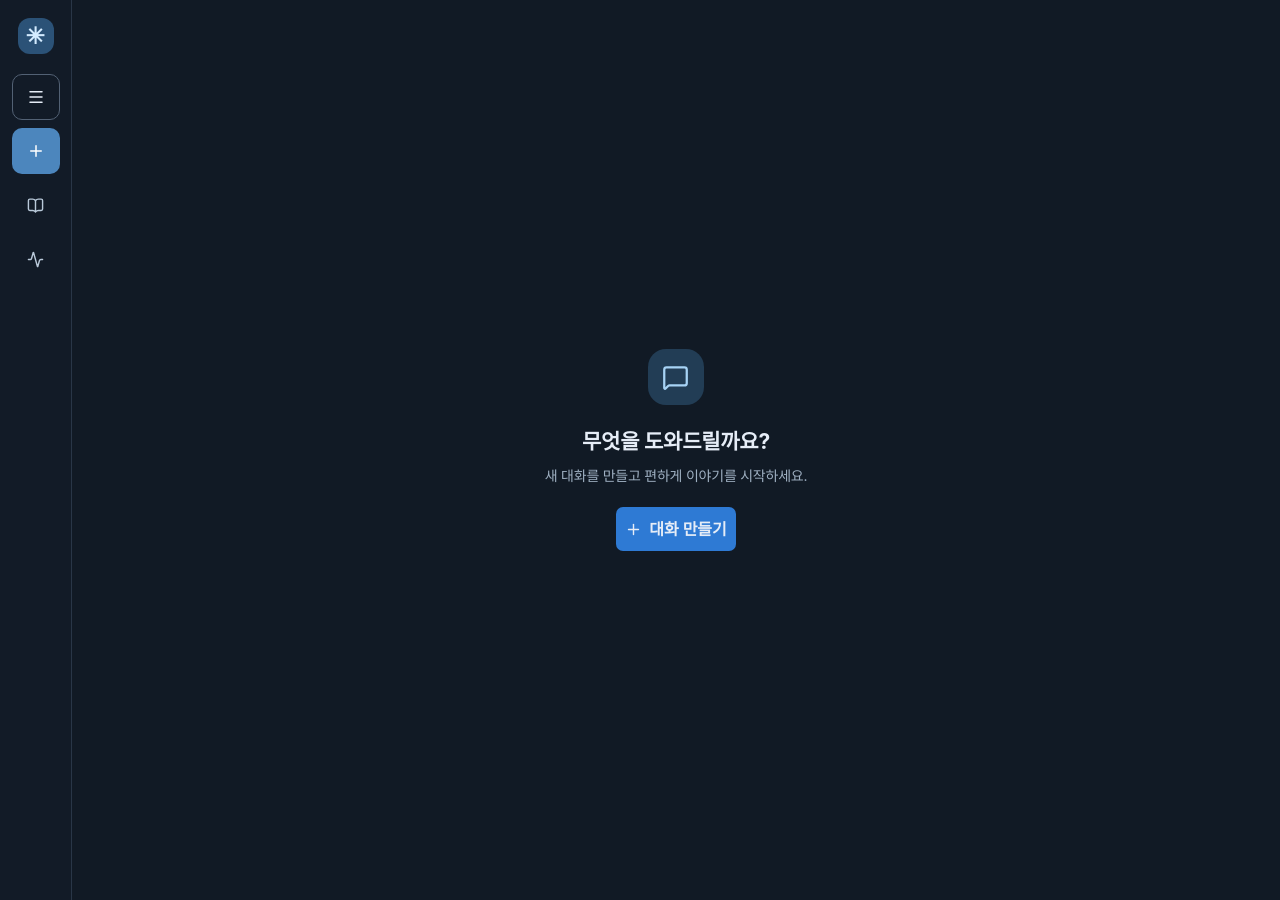
Test case: opens and closes the dialog, then creates and opens a conversation
What coordinates should you click on to do the following:
click the button named "새 대화"
I would click on:
 (36, 151)
Its box is [12,128,60,174].
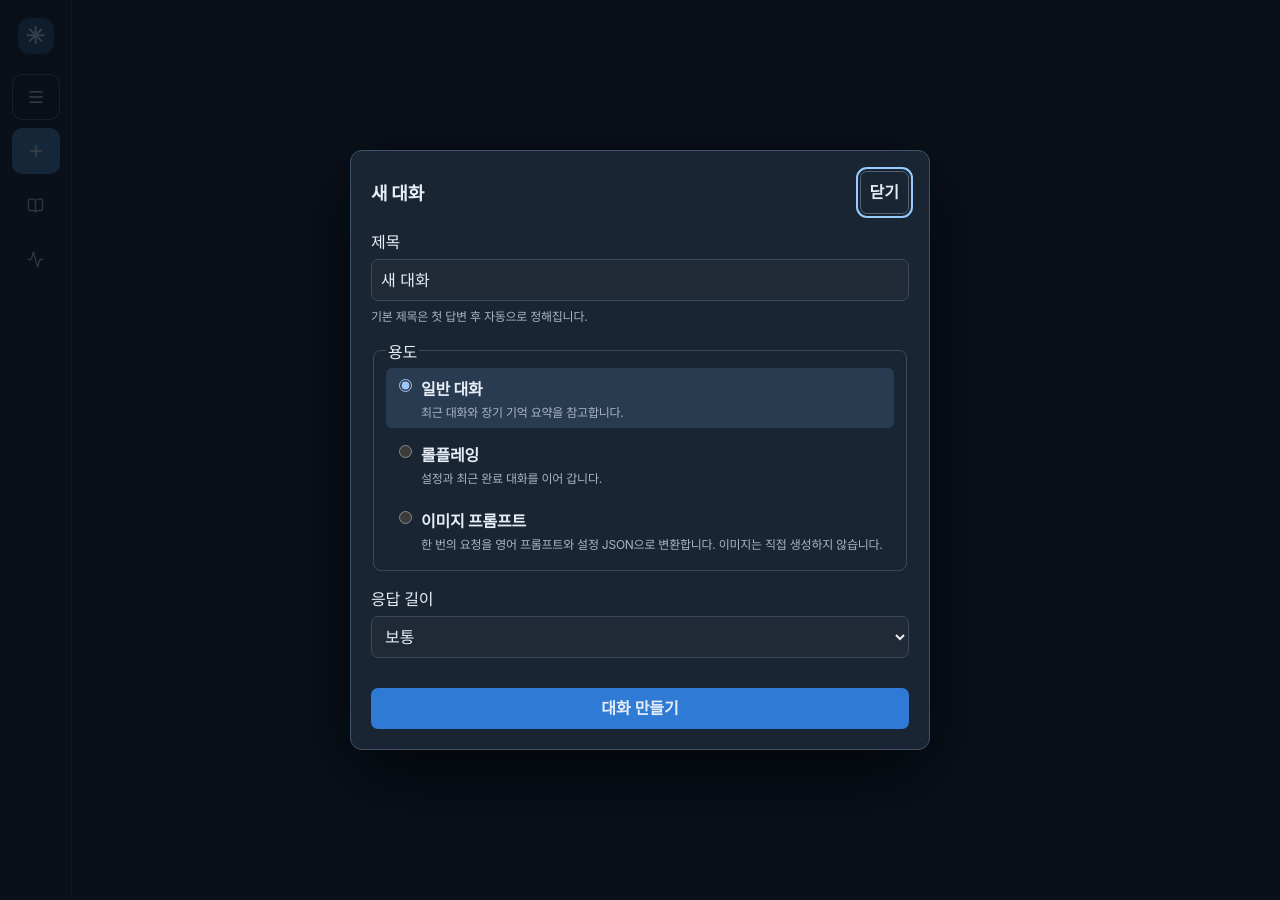
What coordinates should you click on to do the following:
click the button "닫기"
I would click on:
 (884, 192)
Its box is [860,171,909,214].
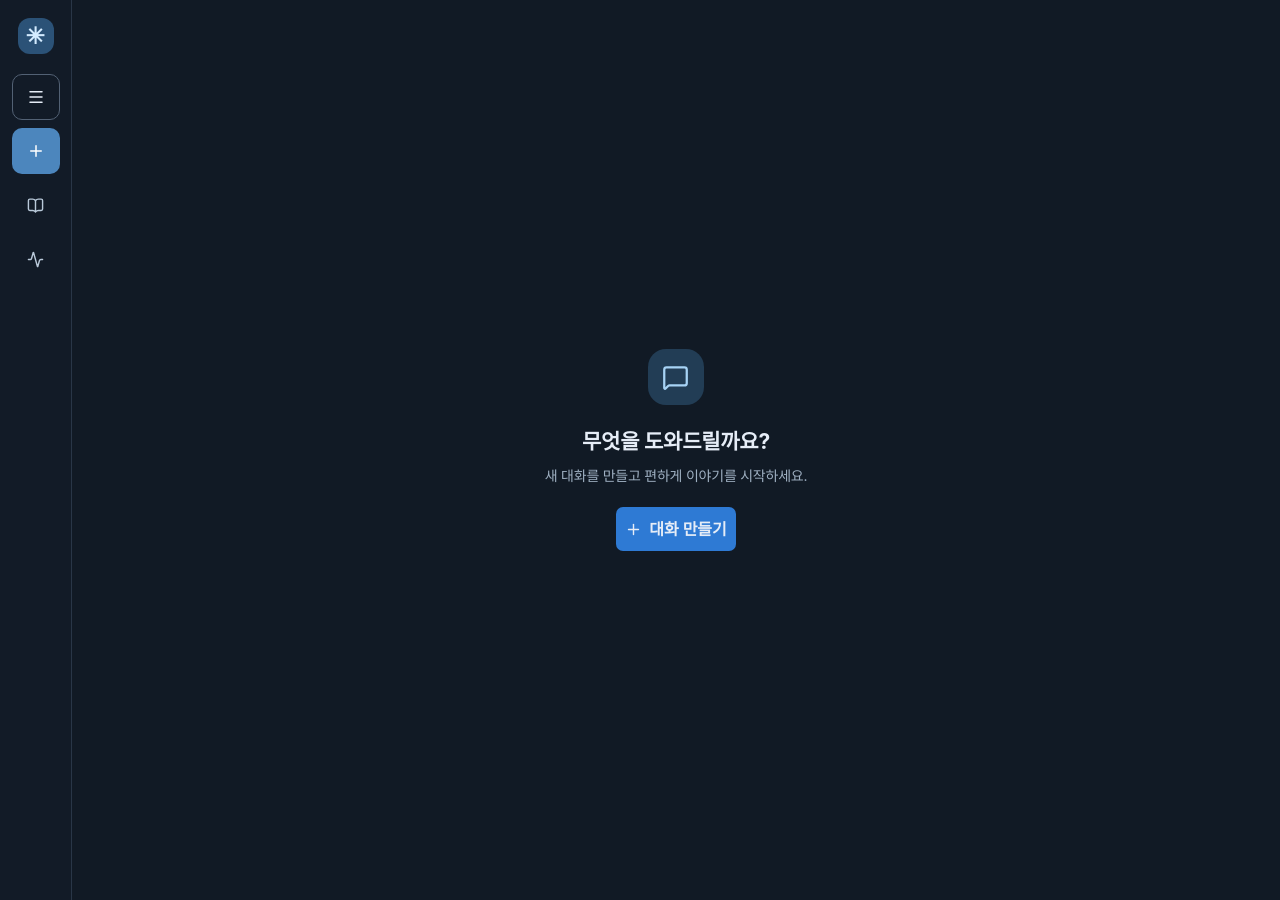
What coordinates should you click on to do the following:
click the button named "새 대화"
I would click on:
 (36, 151)
Its box is [12,128,60,174].
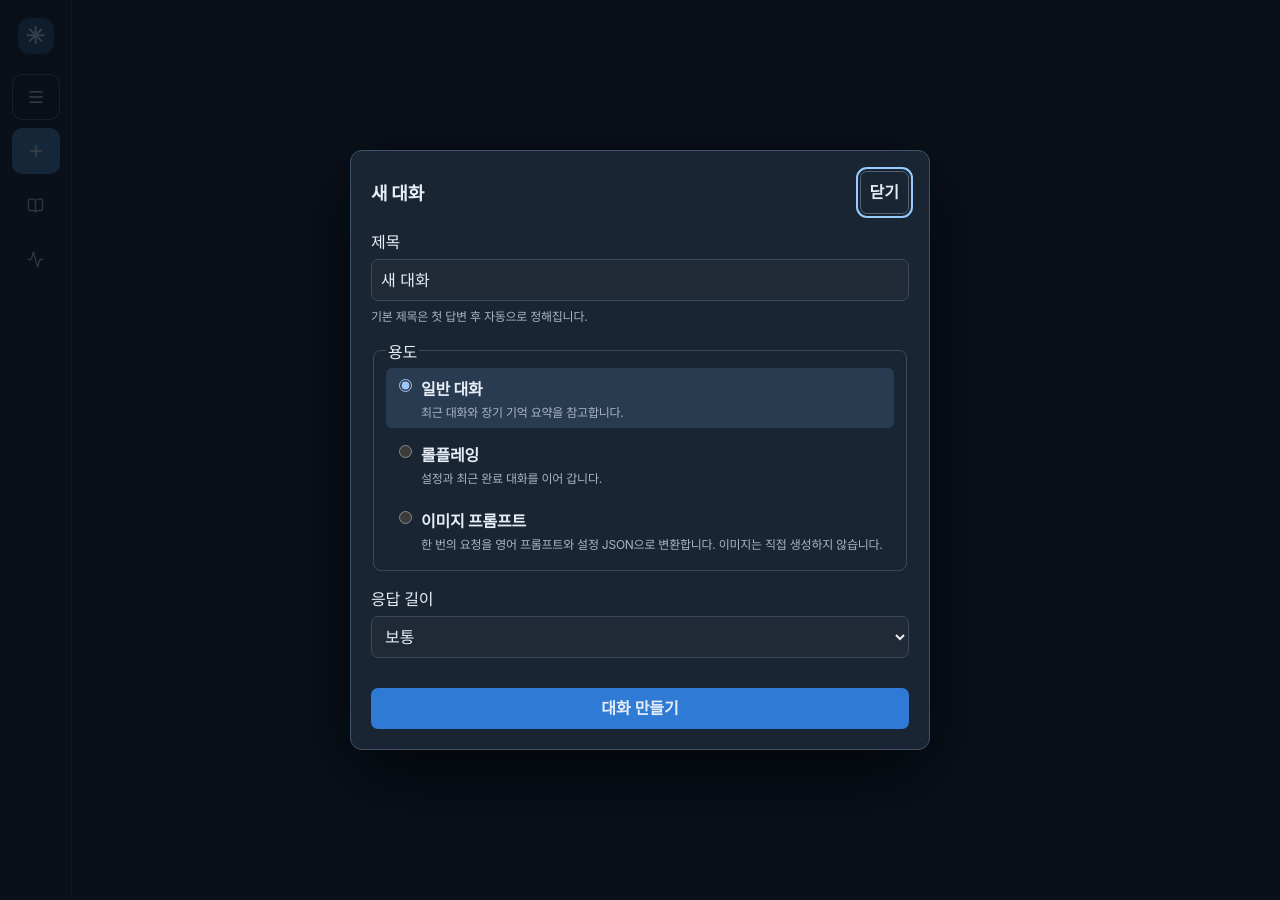
What coordinates should you click on to do the following:
click the button "대화 만들기"
I would click on:
 (640, 709)
Its box is [371,688,909,729].
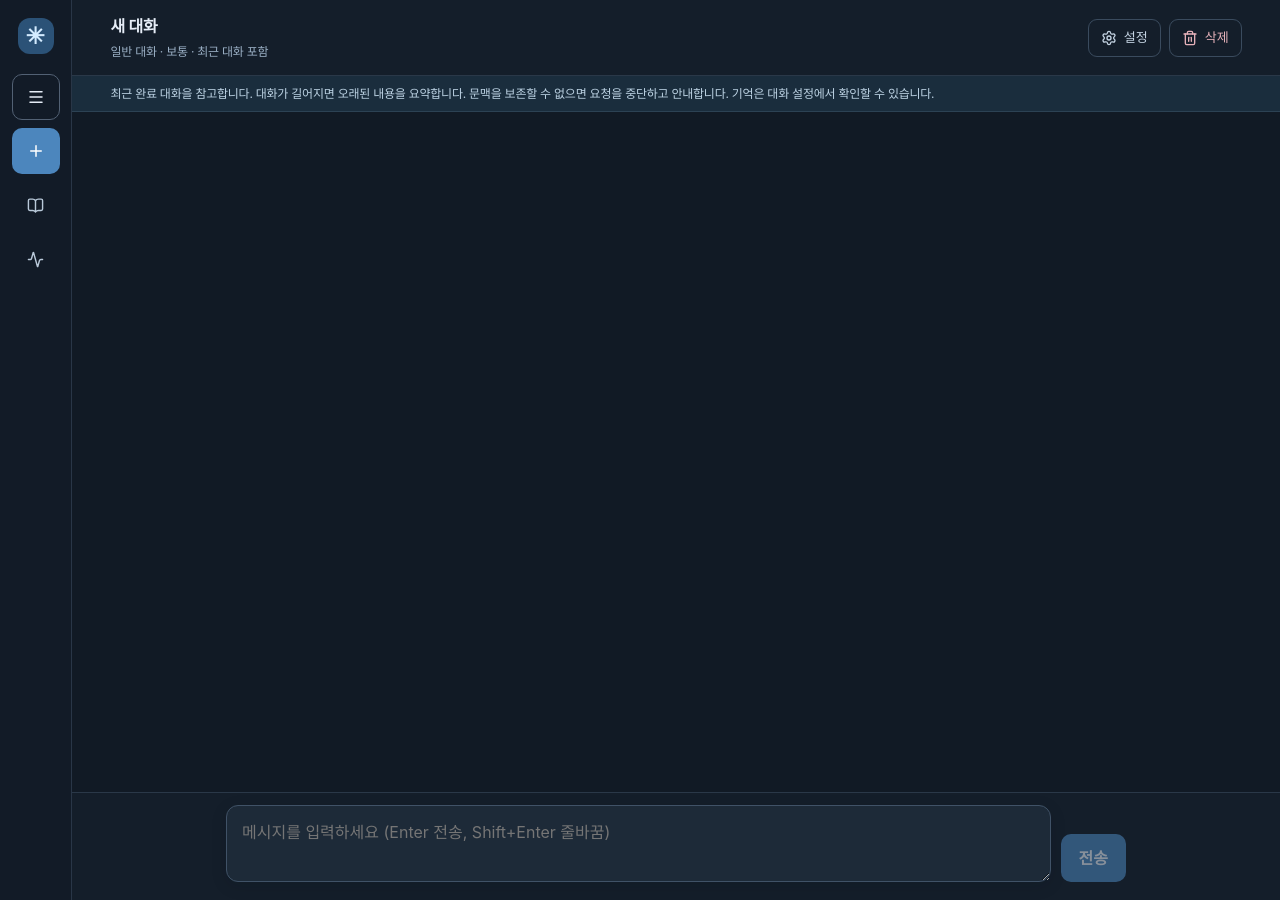
Result: the text box named "메시지 입력" is shown at [226,805,1050,882]
